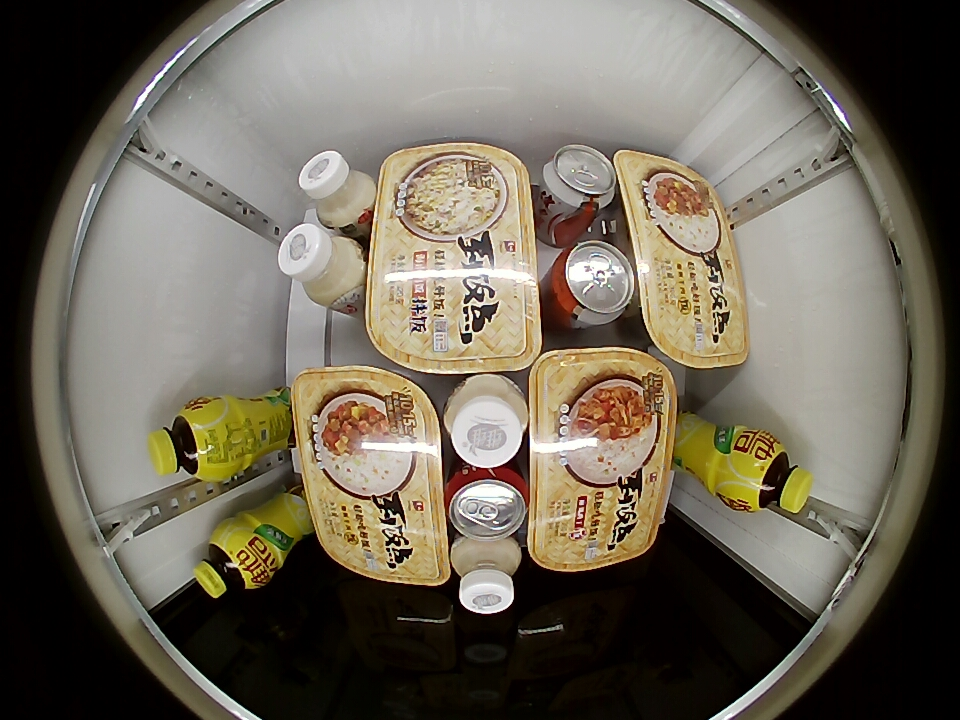daofandian1: (365, 141, 541, 374)
daofandian2: (291, 364, 449, 587), (615, 147, 748, 368)
daofandian4: (527, 346, 677, 575)
jianlibao: (549, 238, 636, 328), (540, 144, 618, 214)
kele: (446, 466, 529, 541)
weitaningmeng-bottle: (728, 434, 814, 516), (148, 398, 230, 482), (193, 523, 269, 599)
weiweidounai: (442, 373, 529, 470), (277, 222, 363, 308), (297, 149, 377, 230), (450, 537, 524, 614)
